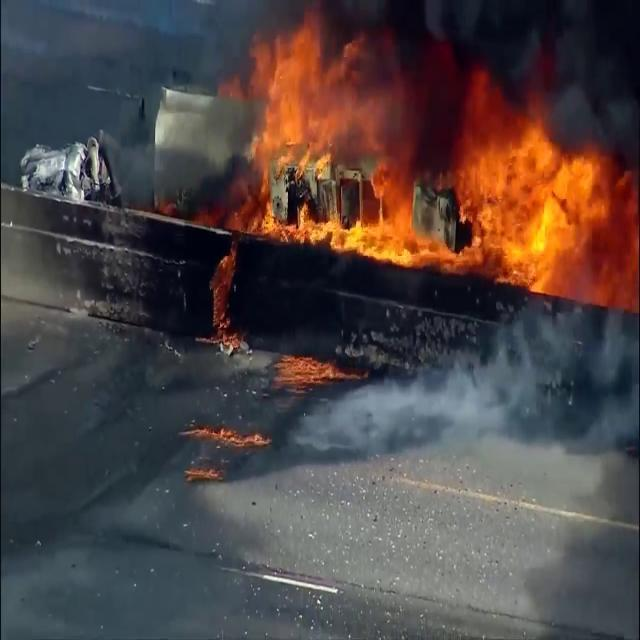Fire: (227, 37, 633, 296)
